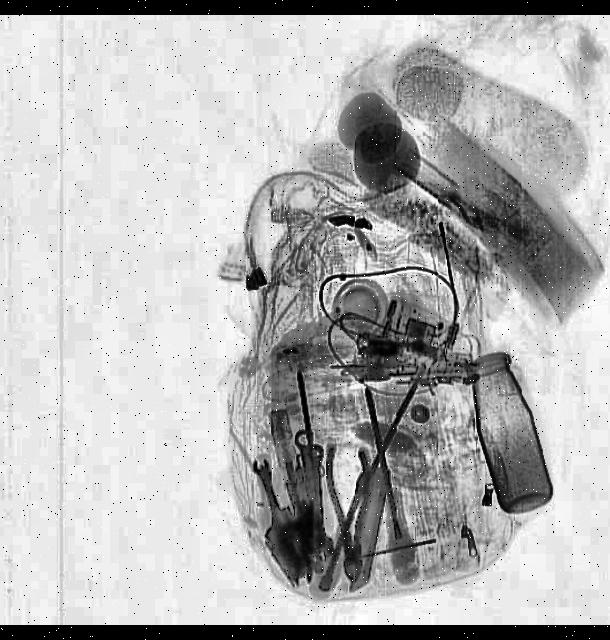Pliers: (321, 448, 373, 586)
Wrench: (247, 458, 283, 526)
